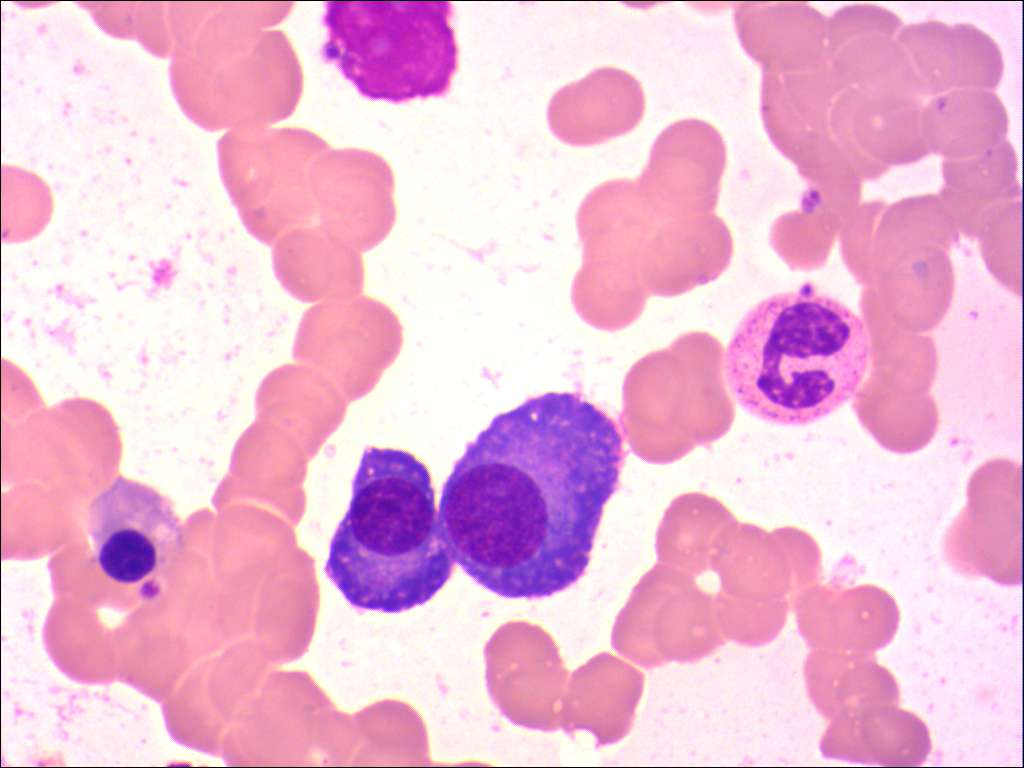24: (81, 472, 185, 588)
5: (720, 280, 872, 429)
51: (437, 387, 631, 602), (320, 443, 458, 619)
x: (317, 1, 461, 107)
